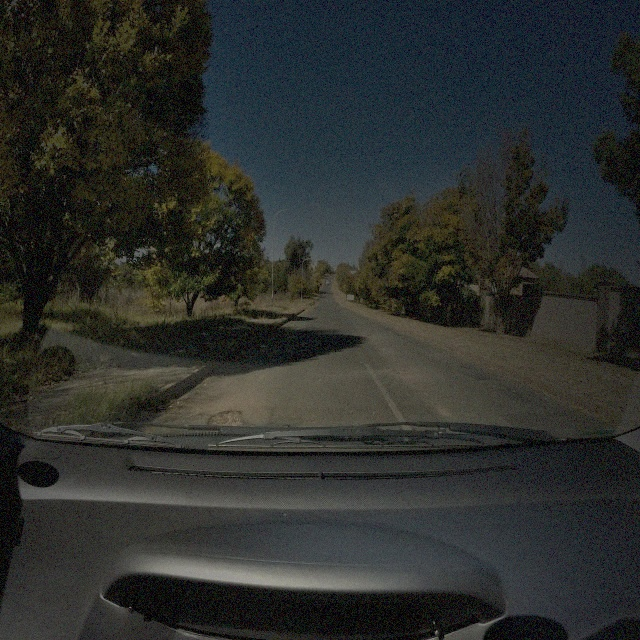pothole: (207, 407, 247, 428), (390, 365, 410, 378)
